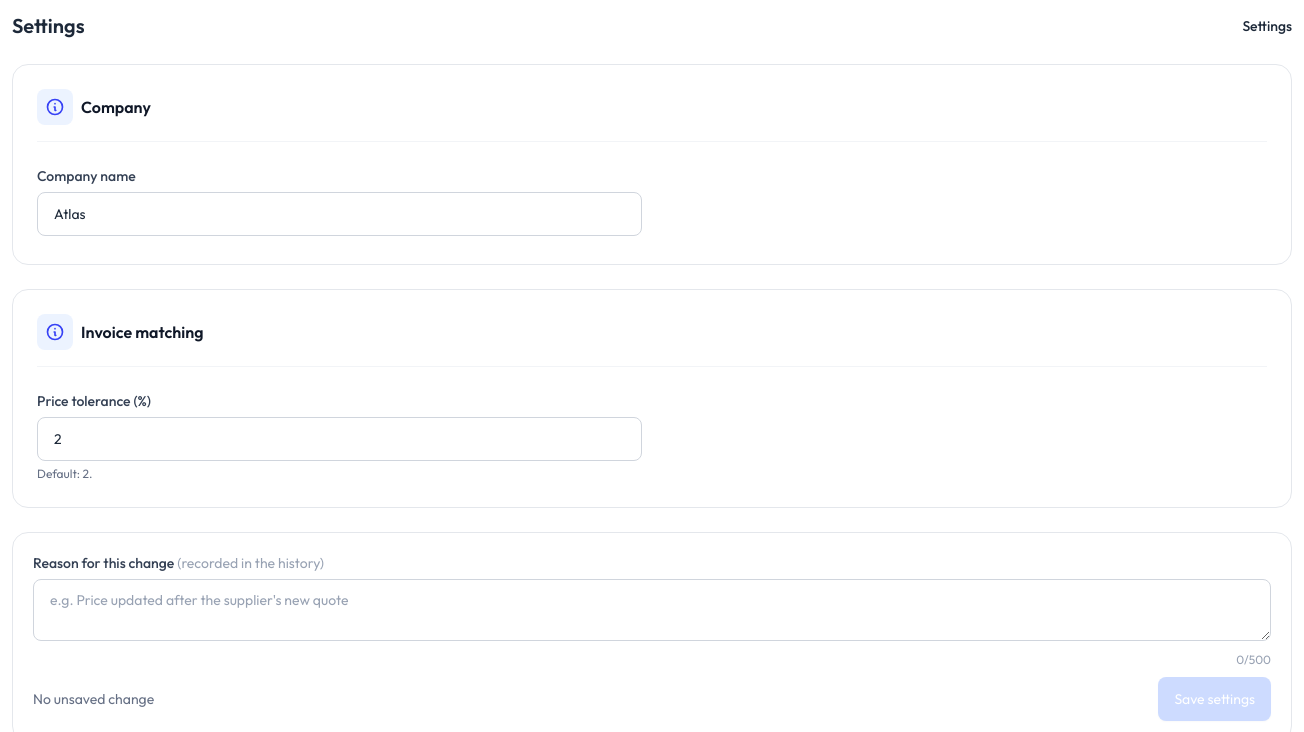
Test: settings page › rule: only changed values are saved, with the reason sent as X-Change-Reason
Expected: the button "Save settings" is disabled, [1158, 677, 1271, 721]
Replace the text in the number field labelled "Price tolerance (%)" with "3.5" at (340, 439), box [37, 417, 642, 461]
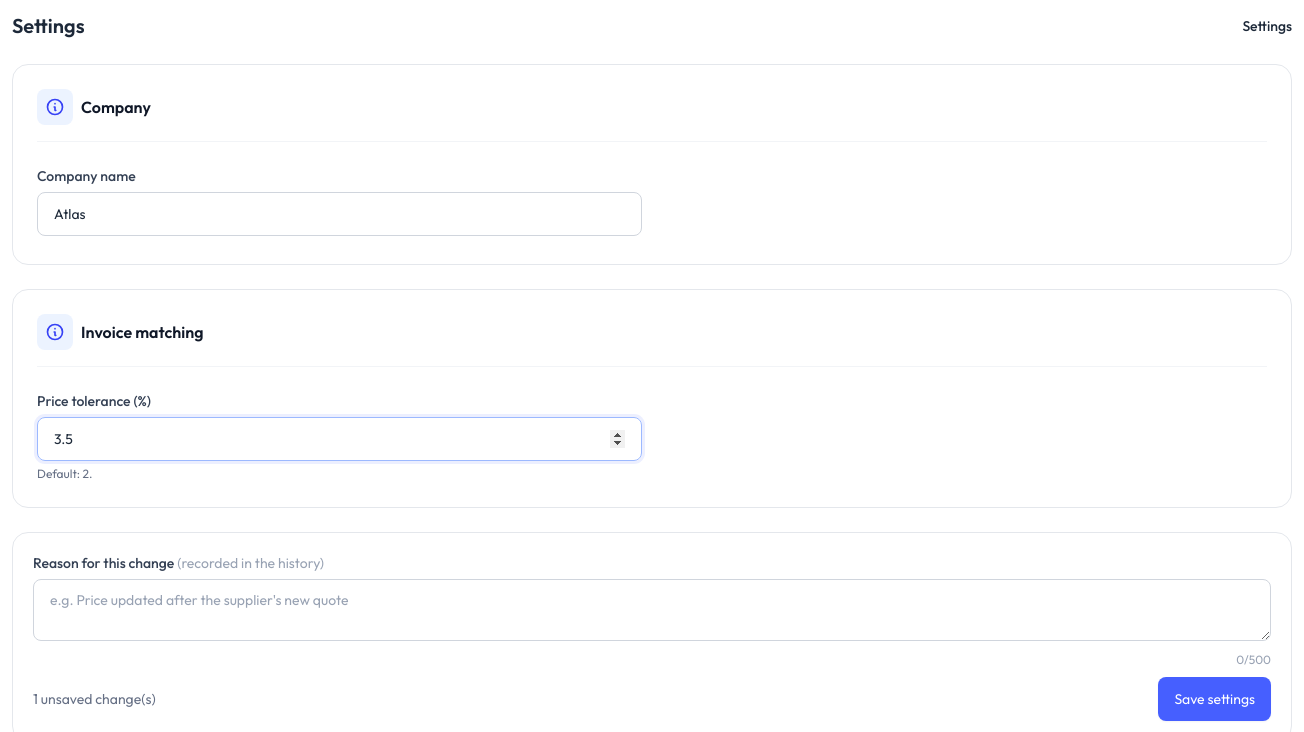
Type "Supplier price drift" into the text box labelled "Reason for this change (recorded in the history)".
click(652, 610); type("Supplier price drift")  # box [33, 579, 1271, 641]
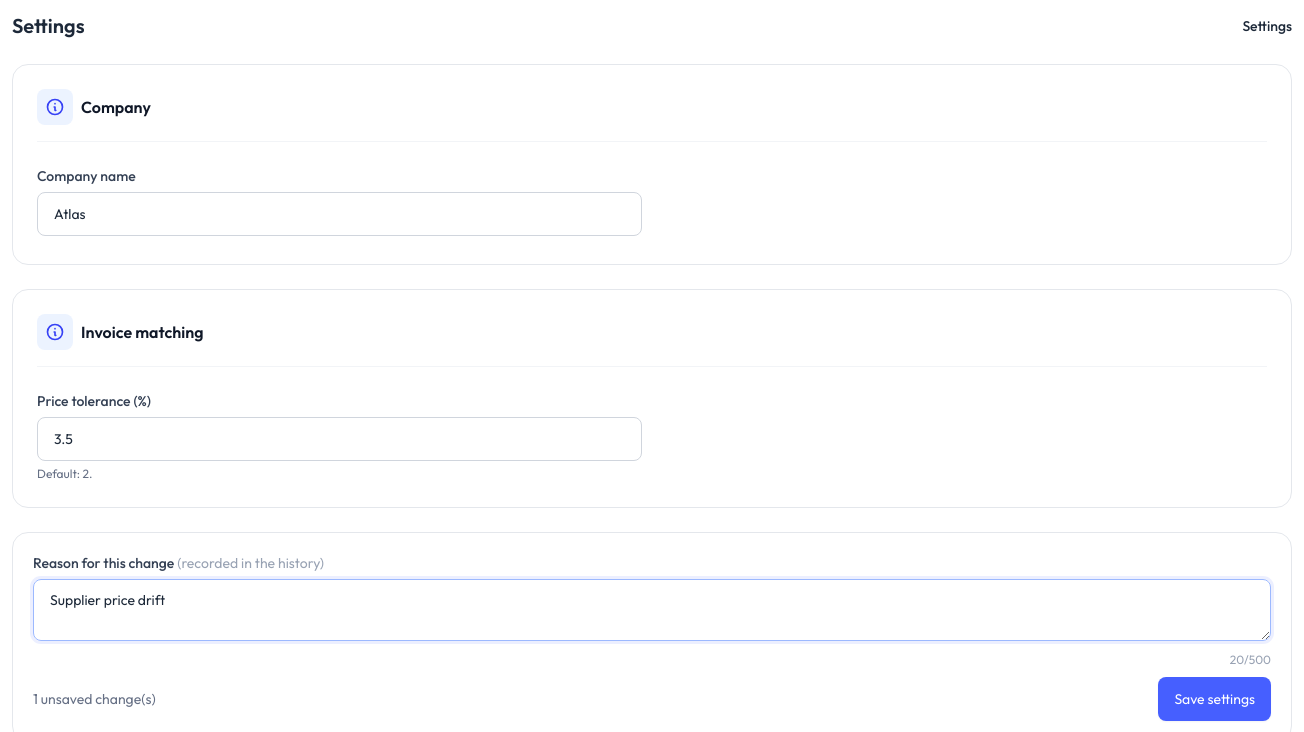
Click the button "Save settings".
click(1215, 699)  # box [1158, 677, 1271, 721]
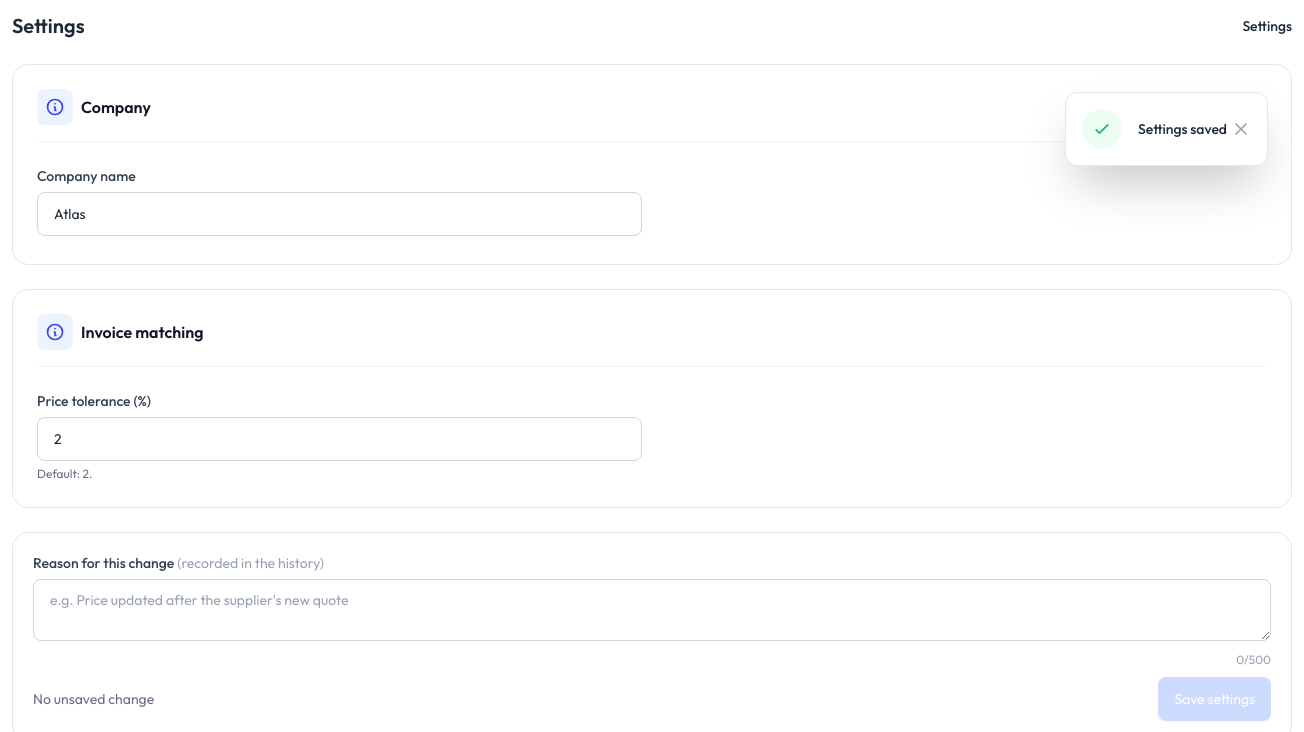
Expected: the heading "Settings saved" is shown, [1138, 119, 1227, 139]
